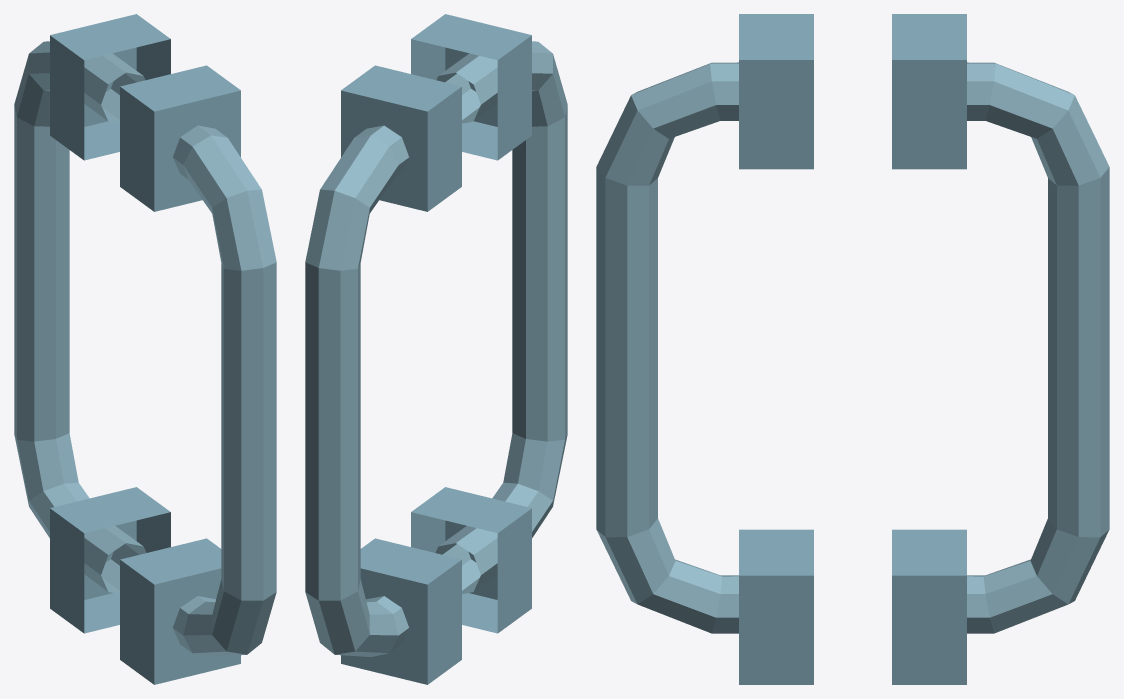
Rendered from DoorHandle01.fbx.
3 renders of one model, left to right at view 1: azimuth 30°, elevation 25°; view 2: azimuth 150°, elevation 25°; view 3: azimuth 270°, elevation 25°, orthographic. The views are drawn at different scales.
Visible parts, largest first — view 1: DoorHandle01; view 2: DoorHandle01; view 3: DoorHandle01.
Boxes of the visible parts, box(x1,y1,x2,y2) form: DoorHandle01: box(14, 14, 276, 684); DoorHandle01: box(305, 14, 567, 684); DoorHandle01: box(596, 14, 1109, 684).
Bounding box in the file's own units: 3.21 × 20.24 × 15.07.
